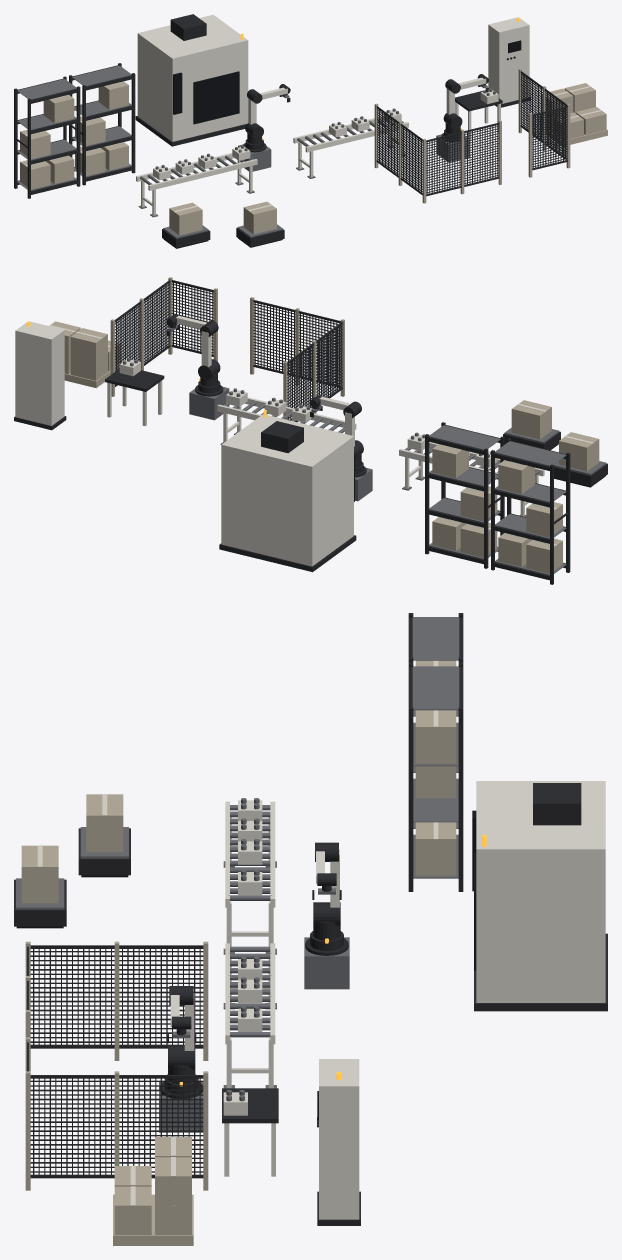
The model's file is hero-line.glb.
3 renders of one model, top to bottom at view 1: azimuth 30°, elevation 25°; view 2: azimuth 150°, elevation 25°; view 3: azimuth 270°, elevation 25°, orthographic. The views are drawn at different scales.
Parts seen in each view (by area): view 1: static_ivory, static_charcoal, static_sand, static_grey, static_glass; view 2: static_ivory, static_charcoal, static_sand, static_grey; view 3: static_ivory, static_charcoal, static_sand, static_grey, static_glass.
Part boxes in pixels (<box>): static_ivory: <box>25,14,601,215</box>; static_charcoal: <box>14,14,567,247</box>; static_sand: <box>20,68,607,235</box>; static_grey: <box>17,65,469,238</box>; static_glass: <box>164,40,521,248</box>; static_ivory: <box>15,321,593,566</box>; static_charcoal: <box>14,280,607,584</box>; static_sand: <box>51,277,599,573</box>; static_grey: <box>189,387,606,575</box>; static_ivory: <box>37,660,605,1219</box>; static_charcoal: <box>14,613,607,1225</box>; static_sand: <box>21,660,456,1245</box>; static_grey: <box>16,617,459,1132</box>; static_glass: <box>16,810,476,1120</box>.
Bounding box in the file's own units: 13.18 × 2.5 × 7.35.
